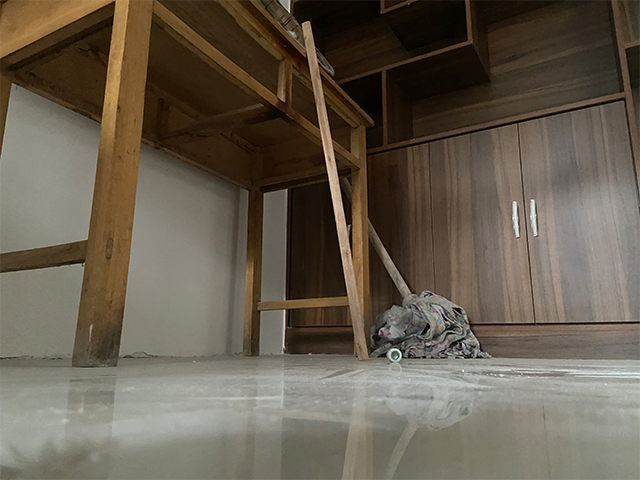cabinet: (286, 91, 633, 360)
table: (1, 1, 374, 369)
